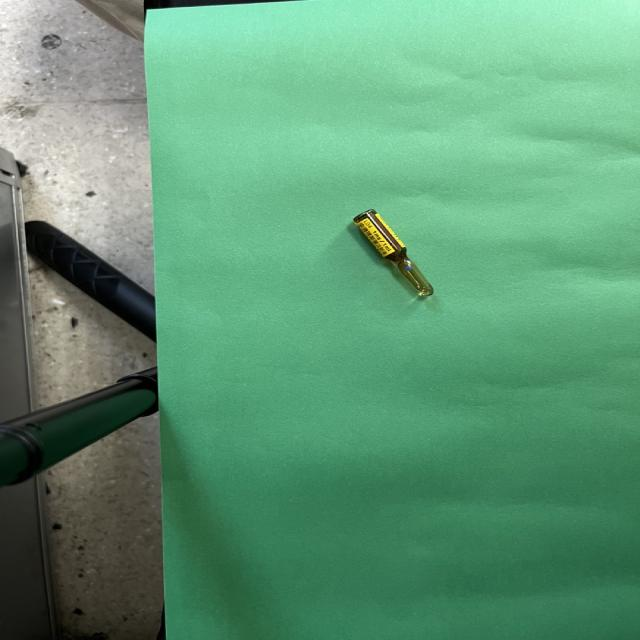Ampoules: (353, 210, 433, 296)
